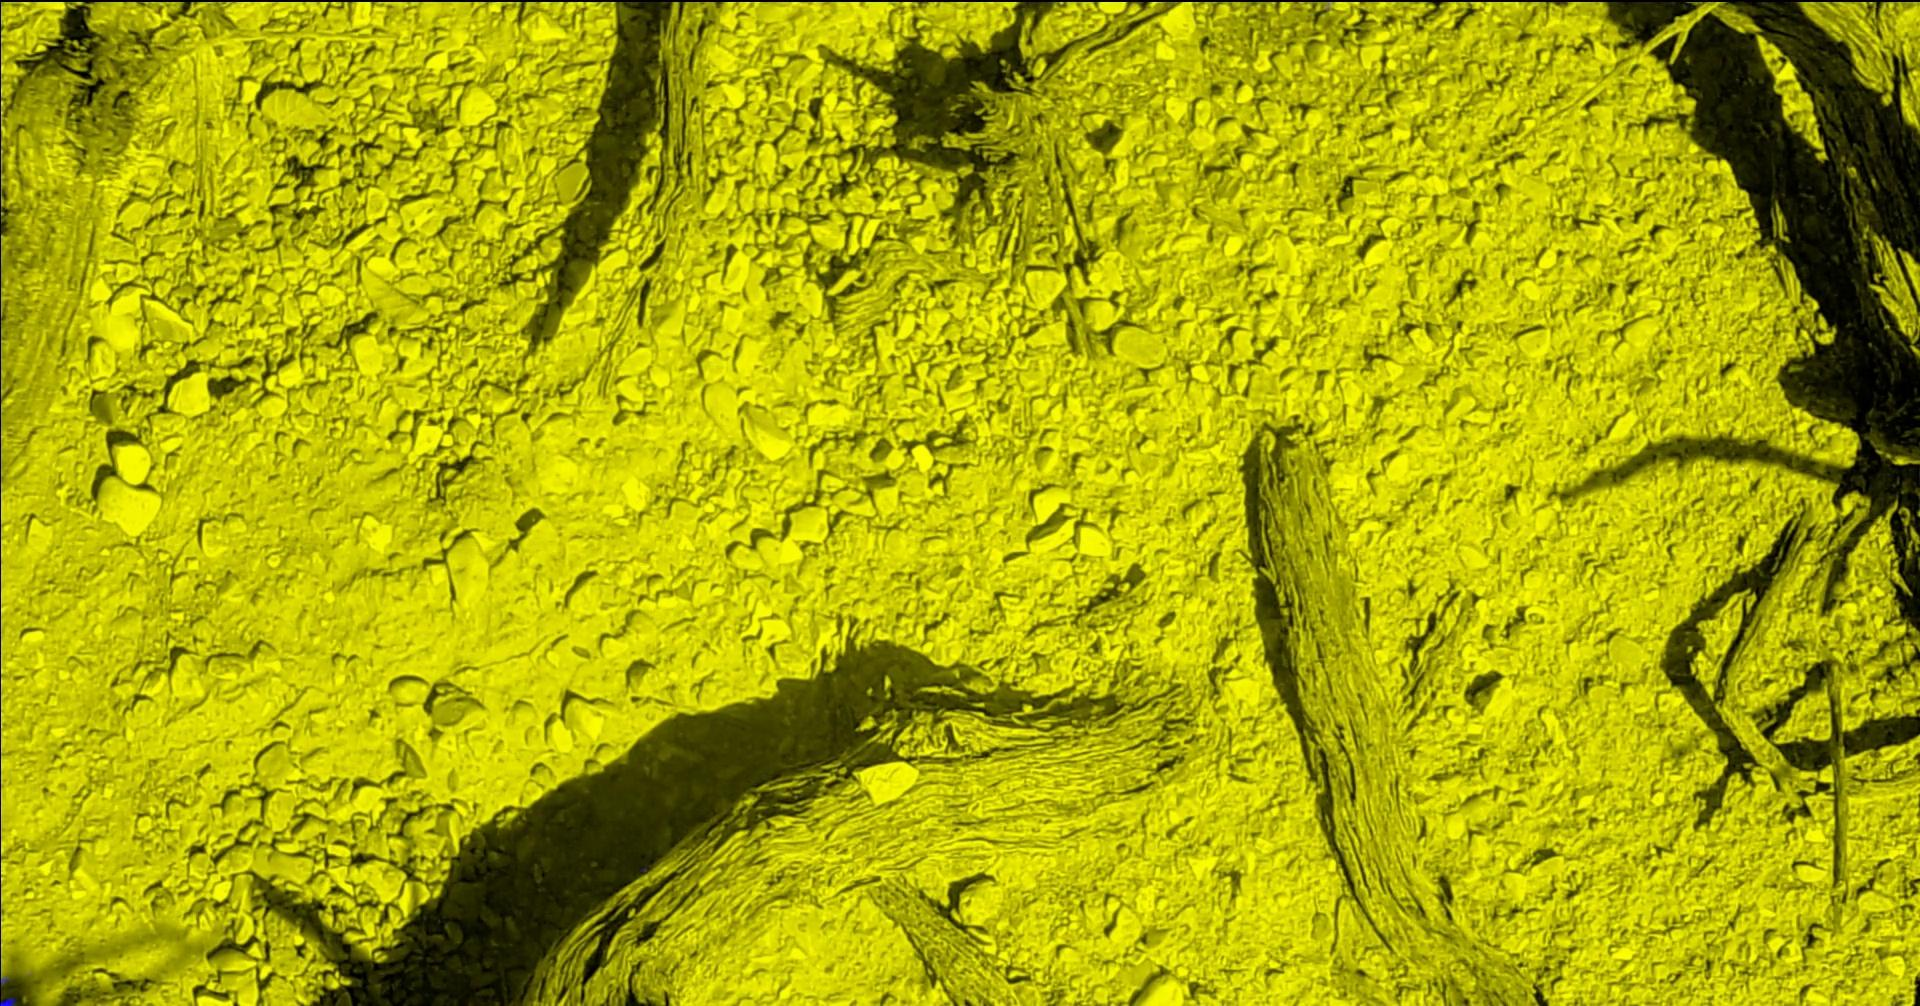ant: (1, 996, 17, 1005)
